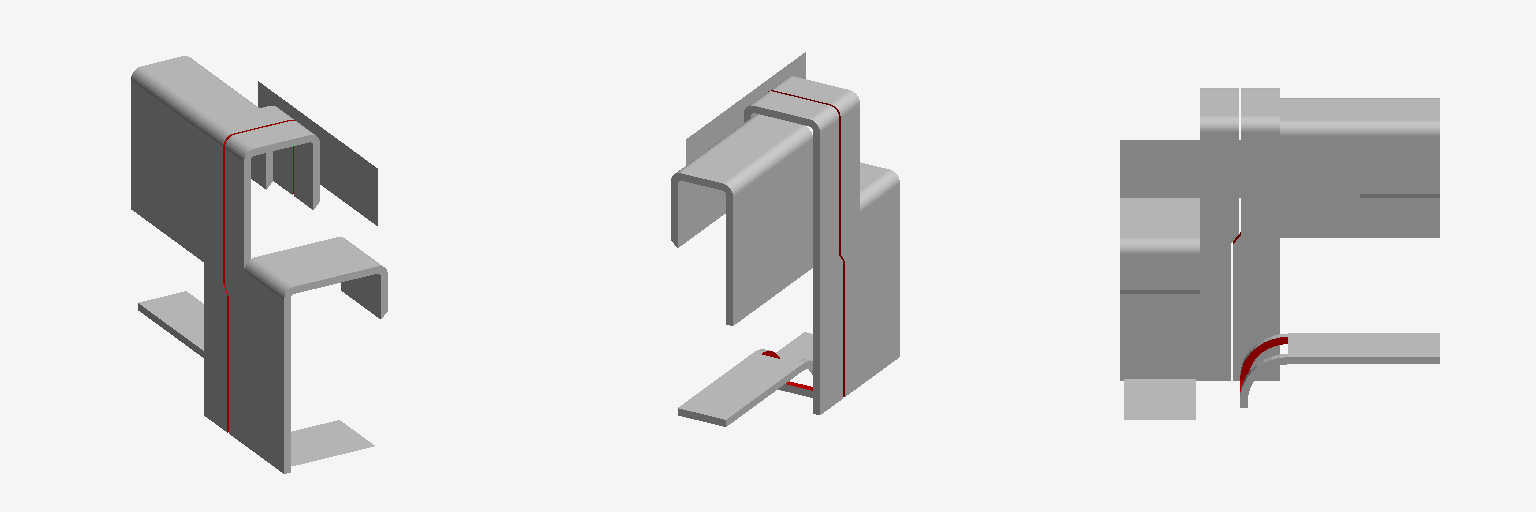
Rendered from Variation_01_BusStop.obj.
The picture shows the model from 3 angles: view 1: azimuth 30°, elevation 25°; view 2: azimuth 150°, elevation 25°; view 3: azimuth 270°, elevation 25°; orthographic projection.
Visible parts, largest first — view 1: Cube_Cube, Plane_Plane, Plane.001_Plane.001; view 2: Cube_Cube, Plane_Plane, Plane.001_Plane.001; view 3: Cube_Cube, Plane_Plane, Plane.001_Plane.001.
Part boxes in pixels (bbox=[...]): Cube_Cube: bbox=[131, 56, 387, 473]; Plane_Plane: bbox=[258, 81, 377, 225]; Plane.001_Plane.001: bbox=[291, 420, 374, 465]; Cube_Cube: bbox=[671, 76, 899, 426]; Plane_Plane: bbox=[686, 52, 805, 164]; Plane.001_Plane.001: bbox=[776, 332, 812, 361]; Cube_Cube: bbox=[1120, 88, 1439, 407]; Plane_Plane: bbox=[1120, 140, 1359, 197]; Plane.001_Plane.001: bbox=[1124, 379, 1195, 419].
Size of the model in its own units: 150 by 405 by 400.